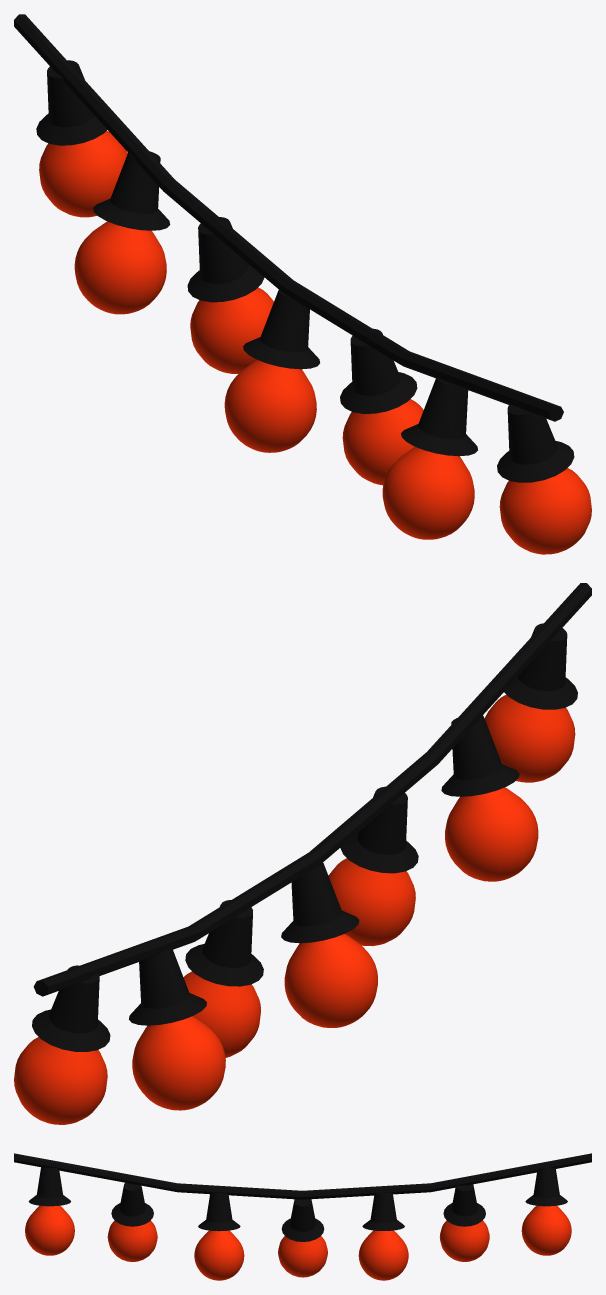
Rendered from stringlights.obj.
3 views of the same model, one above another, from view 1: azimuth 30°, elevation 25°; view 2: azimuth 150°, elevation 25°; view 3: azimuth 270°, elevation 25° (orthographic). The views are drawn at different scales.
Visible parts, largest first — view 1: pCylinder1, pSphere4, pSphere1, pSphere5, pSphere7, pSphere6, pSphere2, pSphere3; view 2: pCylinder1, pSphere1, pSphere5, pSphere4, pSphere6, pSphere7, pSphere3, pSphere2; view 3: pCylinder1, pSphere7, pSphere2, pSphere3, pSphere6, pSphere1, pSphere4, pSphere5.
Boxes of the visible parts, left/top/right/bottom form: pCylinder1: left=14, top=14, right=563, bottom=421; pSphere4: left=382, top=377, right=477, bottom=539; pSphere1: left=224, top=290, right=319, bottom=452; pSphere5: left=74, top=151, right=170, bottom=314; pSphere7: left=497, top=404, right=591, bottom=554; pSphere6: left=36, top=60, right=127, bottom=217; pSphere2: left=187, top=217, right=273, bottom=373; pSphere3: left=340, top=328, right=423, bottom=485; pCylinder1: left=33, top=583, right=591, bottom=996; pSphere1: left=281, top=863, right=377, bottom=1027; pSphere5: left=129, top=947, right=225, bottom=1110; pSphere4: left=441, top=715, right=538, bottom=881; pSphere6: left=14, top=965, right=110, bottom=1124; pSphere7: left=484, top=623, right=577, bottom=782; pSphere3: left=328, top=786, right=418, bottom=946; pSphere2: left=183, top=900, right=263, bottom=1057; pCylinder1: left=14, top=1153, right=591, bottom=1199; pSphere7: left=25, top=1167, right=74, bottom=1255; pSphere2: left=358, top=1192, right=408, bottom=1280; pSphere3: left=194, top=1192, right=244, bottom=1280; pSphere6: left=521, top=1168, right=571, bottom=1255; pSphere1: left=278, top=1199, right=327, bottom=1277; pSphere4: left=107, top=1182, right=157, bottom=1261; pSphere5: left=439, top=1184, right=489, bottom=1261.
Size of the model in its own units: 1.38 by 2.55 by 10.6.
